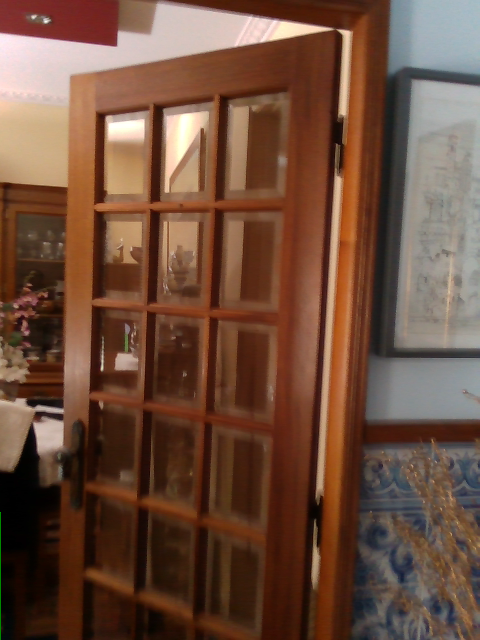semi: (54, 1, 389, 639)
